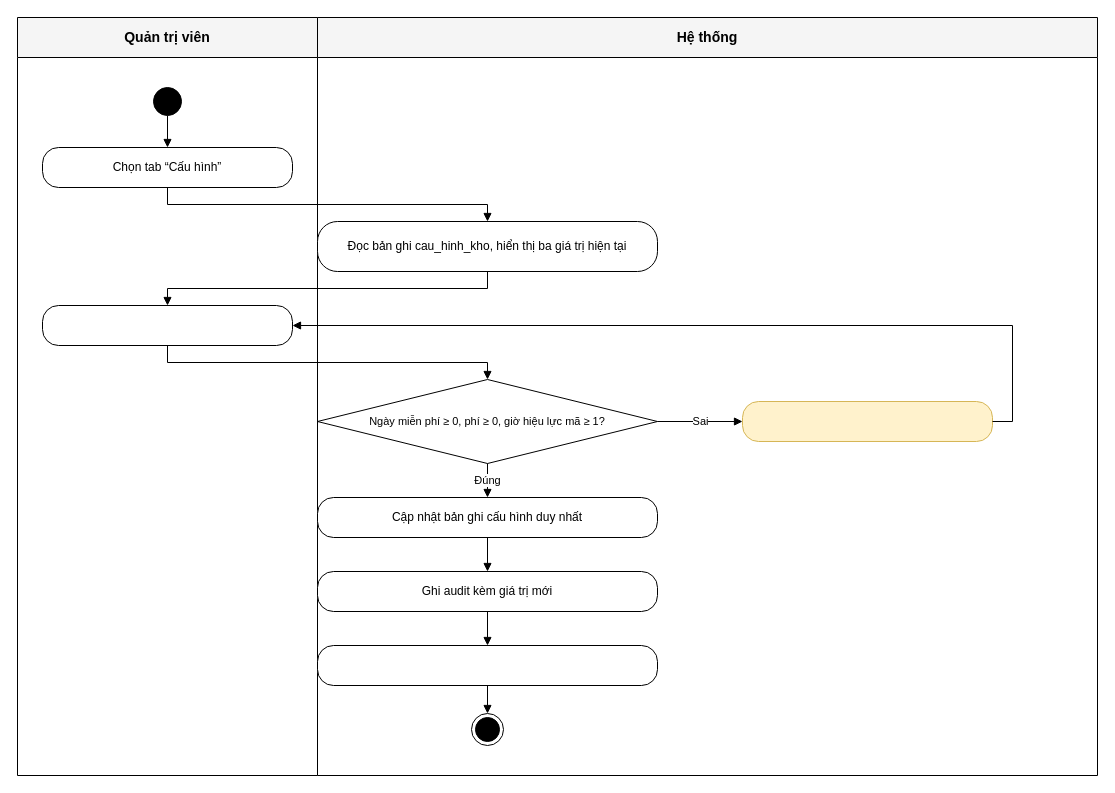
The diagram is 1115 pixels wide and 793 high, and some of its shapes have lost their labels. The shapes that lost their labels are listed below. From the top down, each one's centre as x and y in pixels, then its label:
the point at 167,325: Sửa giá trị, bấm “Lưu cấu hình”
the point at 867,421: Báo lỗi, không lưu
the point at 487,665: Thông báo lưu thành công
